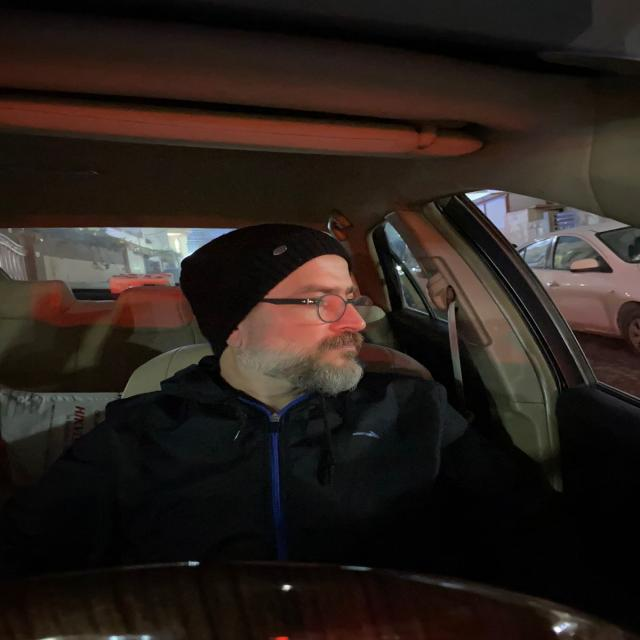LeftRight: (182, 239, 384, 402)
